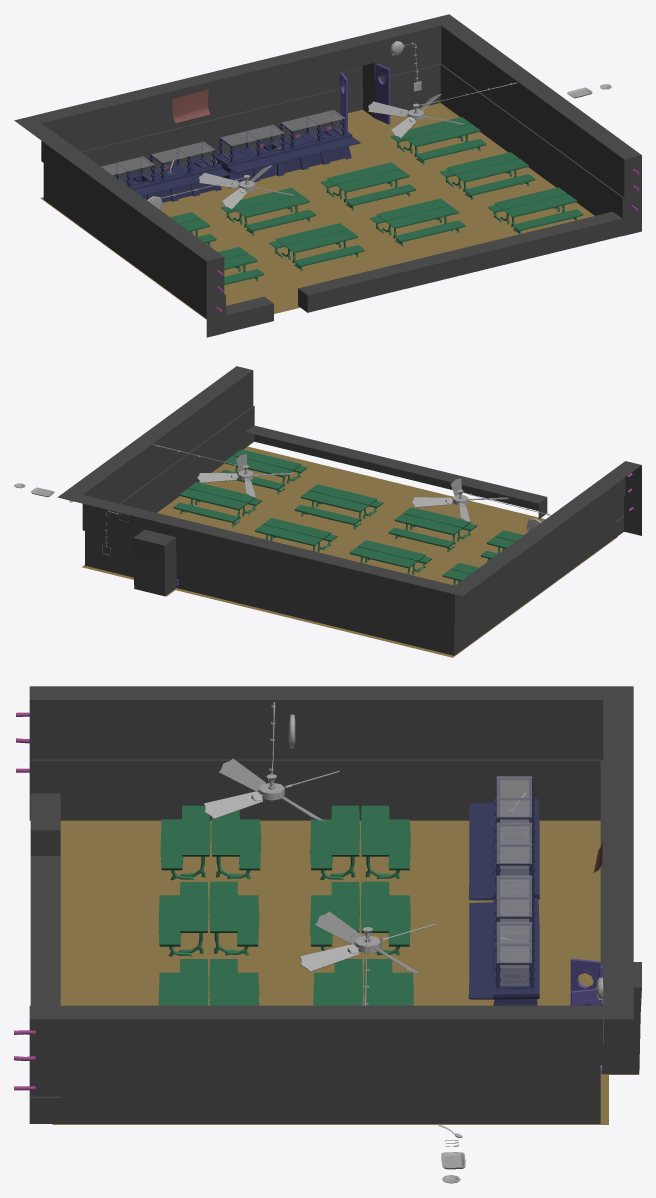
The model's file is Cafeteria.fbx.
3 renders of one model, top to bottom at view 1: azimuth 30°, elevation 25°; view 2: azimuth 150°, elevation 25°; view 3: azimuth 270°, elevation 25°, orthographic. The views are drawn at different scales.
Visible parts, largest first — view 1: BackWall, Floor2, ShortWalls, Bench2 (×6), CafeteriaBooth1, Bench3 (×6), CafeteriaBooth3, Blades (×2), Bench7, Poster, Bench6, KitchenDoor1 (+1 smaller); view 2: BackWall, Floor2, Bench3 (×6), ShortWalls, Bench2 (×6), Blades (×2); view 3: BackWall, Floor2, Bench3 (×5), Bench2 (×5), CafeteriaBooth1, CafeteriaBooth3, ShortWalls, Blades (×2), Bench, Bench1, KitchenDoor.
Part boxes in pixels (<box>): BackWall: <box>14,14,641,337</box>; Floor2: <box>40,103,594,319</box>; ShortWalls: <box>226,211,622,332</box>; Bench2 (×6): <box>237,159,583,270</box>; CafeteriaBooth1: <box>212,110,360,188</box>; Bench3 (×6): <box>221,152,567,259</box>; CafeteriaBooth3: <box>101,141,230,202</box>; Blades (×2): <box>199,94,463,209</box>; Bench7: <box>407,124,486,164</box>; Poster: <box>172,89,210,122</box>; Bench6: <box>391,117,470,153</box>; KitchenDoor1: <box>375,63,390,124</box>; BackWall: <box>57,366,641,655</box>; Floor2: <box>82,446,617,657</box>; Bench3 (×6): <box>173,456,462,574</box>; ShortWalls: <box>246,425,625,531</box>; Bench2 (×6): <box>188,449,477,574</box>; Blades (×2): <box>197,453,509,522</box>; BackWall: <box>29,686,641,1123</box>; Floor2: <box>52,820,638,1124</box>; Bench3 (×5): <box>209,805,413,1005</box>; Bench2 (×5): <box>158,805,362,1005</box>; CafeteriaBooth1: <box>468,875,539,1005</box>; CafeteriaBooth3: <box>468,776,539,900</box>; ShortWalls: <box>30,793,60,1097</box>; Blades (×2): <box>204,758,435,974</box>; Bench: <box>160,805,210,880</box>; Bench1: <box>211,810,261,879</box>; KitchenDoor: <box>570,958,603,1005</box>.
Size of the model in its own units: 32.36 by 4.4 by 20.83.
